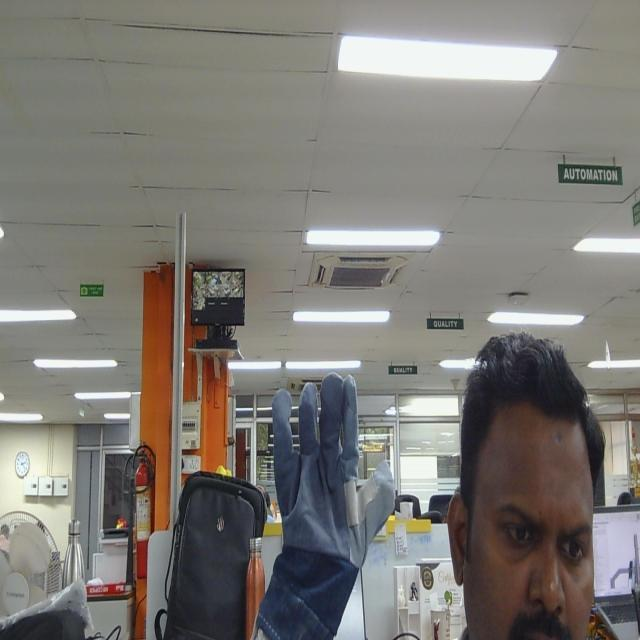Gloves-Detection: (256, 366, 396, 638)
